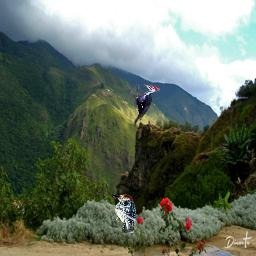Woodpecker: (134, 84, 160, 128), (110, 192, 137, 233)
